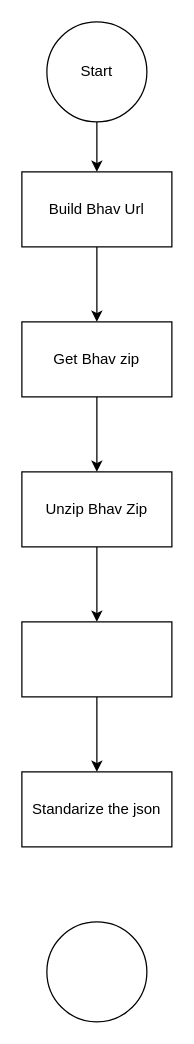
This 194x1044 diagram has some shape labels left out. Each missing label, with the centre of its shape:
"Convert csv to json" belongs at [96,659].
"Stop" belongs at [96,971].
